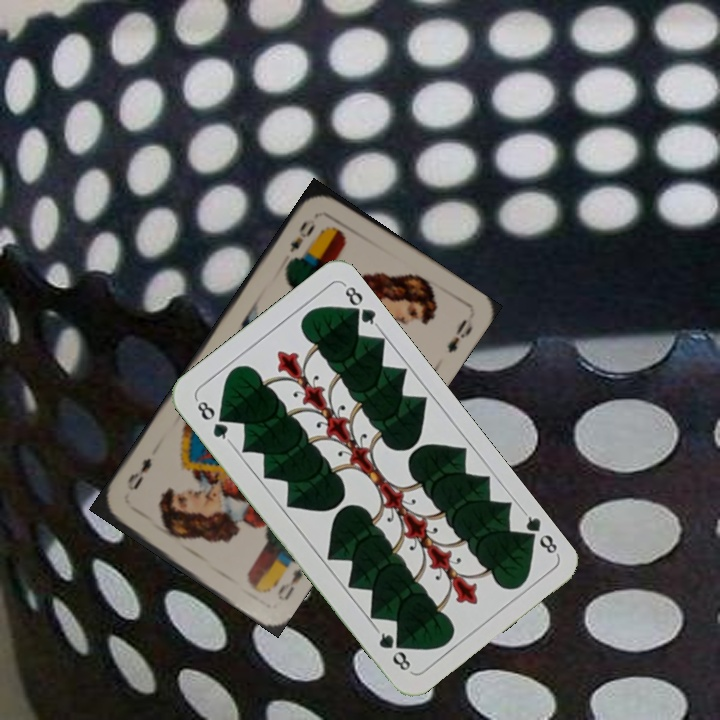EO: (285, 216, 318, 256), (273, 564, 305, 604)
G8: (517, 507, 561, 557), (192, 395, 234, 445)
